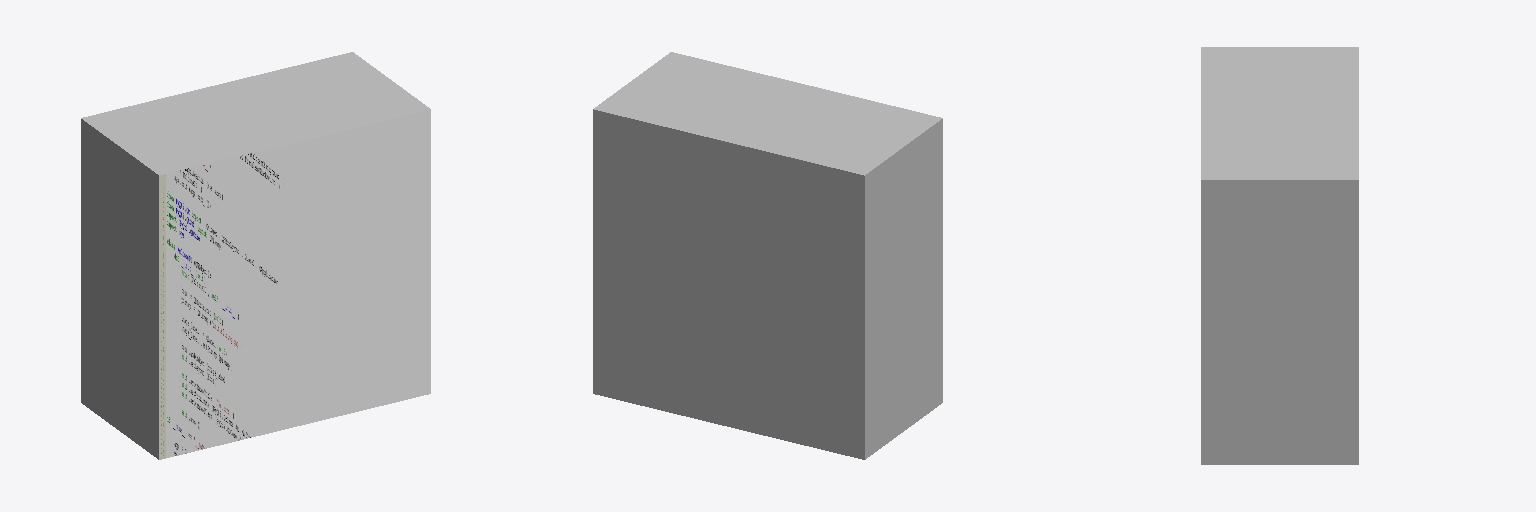
The picture shows the model from 3 angles: view 1: azimuth 30°, elevation 25°; view 2: azimuth 150°, elevation 25°; view 3: azimuth 270°, elevation 25°; orthographic projection.
Visible parts, largest first — view 1: Object.1; view 2: Object.1; view 3: Object.1.
Boxes of the visible parts, box(x1,y1,x2,y2) form: Object.1: box(81, 52, 430, 459); Object.1: box(593, 52, 942, 459); Object.1: box(1201, 47, 1358, 464).
Bounding box in the file's own units: 40 × 40 × 20.
1 materials, 1 textured.